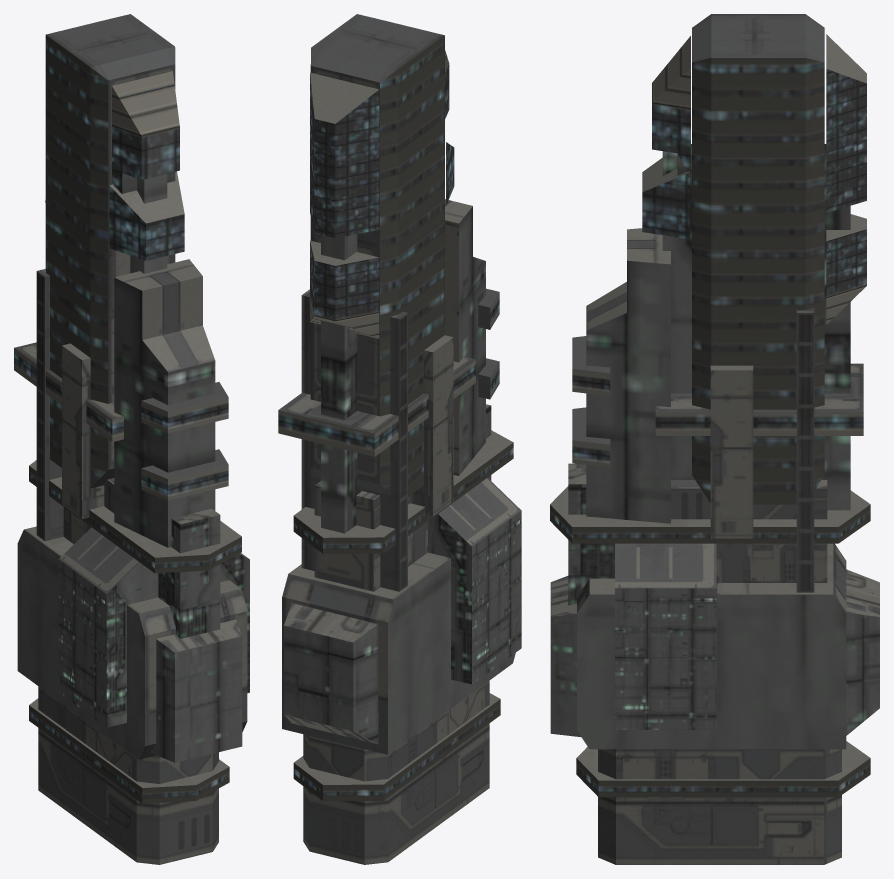
Rendered from Skyscraper_distance_3.gltf.
The picture shows the model from 3 angles, left to right: view 1: azimuth 30°, elevation 25°; view 2: azimuth 150°, elevation 25°; view 3: azimuth 270°, elevation 25°; orthographic projection. The views are drawn at different scales.
Parts seen in each view (by area): view 1: Skyscraper_distance_3; view 2: Skyscraper_distance_3; view 3: Skyscraper_distance_3.
Boxes of the visible parts, x1,y1,x2,y2 form: Skyscraper_distance_3: [14, 14, 249, 864]; Skyscraper_distance_3: [278, 14, 521, 864]; Skyscraper_distance_3: [550, 14, 879, 864].
Size of the model in its own units: 28.05 by 143 by 52.82.
